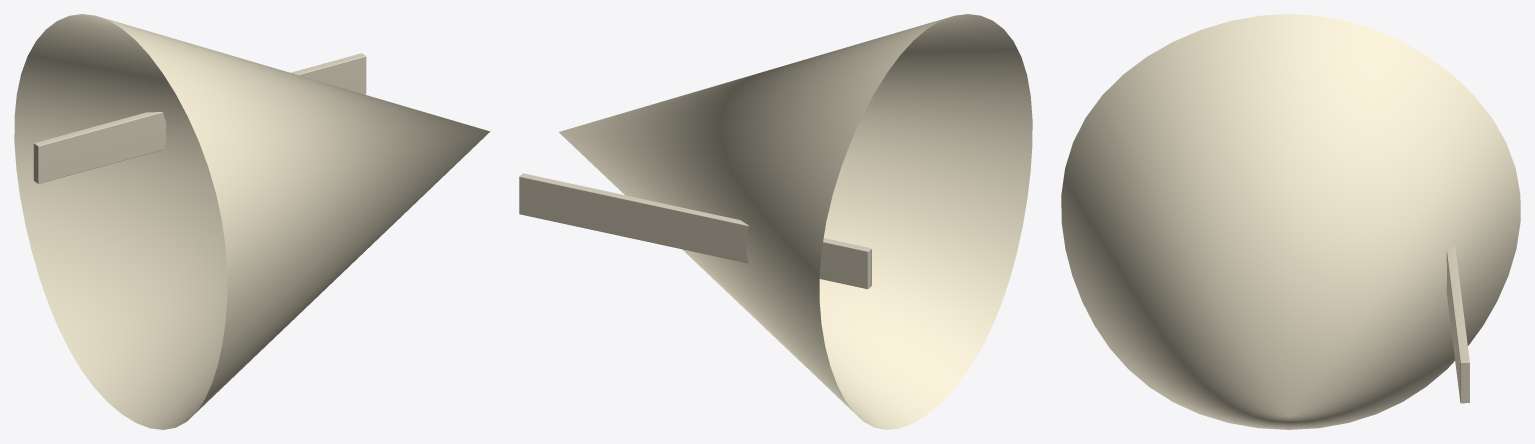
The model's file is nose_cone_a.glb.
3 renders of one model, left to right at view 1: azimuth 30°, elevation 25°; view 2: azimuth 150°, elevation 25°; view 3: azimuth 270°, elevation 25°, orthographic. The views are drawn at different scales.
Visible parts, largest first — view 1: RW3_Paper_Nose_Cone_A, RW3_Paper_Nose_Cone_A_Glue_Overlap; view 2: RW3_Paper_Nose_Cone_A, RW3_Paper_Nose_Cone_A_Glue_Overlap; view 3: RW3_Paper_Nose_Cone_A, RW3_Paper_Nose_Cone_A_Glue_Overlap.
Boxes of the visible parts, box(x1,y1,x2,y2) form: RW3_Paper_Nose_Cone_A: box(14, 14, 490, 429); RW3_Paper_Nose_Cone_A_Glue_Overlap: box(33, 53, 366, 183); RW3_Paper_Nose_Cone_A: box(559, 14, 1032, 429); RW3_Paper_Nose_Cone_A_Glue_Overlap: box(519, 173, 871, 289); RW3_Paper_Nose_Cone_A: box(1061, 14, 1520, 429); RW3_Paper_Nose_Cone_A_Glue_Overlap: box(1446, 245, 1469, 403).
Bounding box in the file's own units: 0.8943 × 0.86 × 0.8604.
